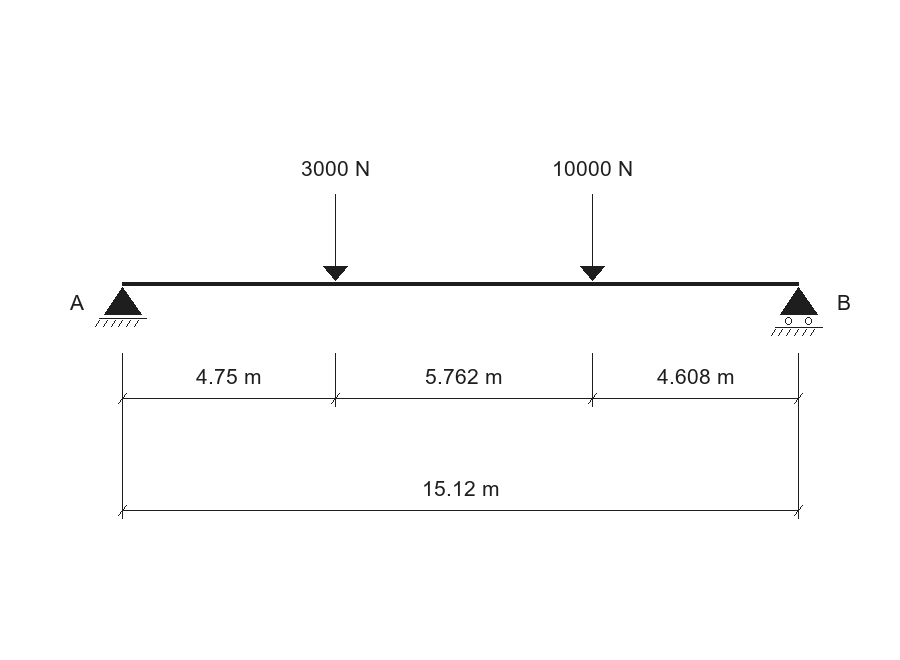pin_support: (95, 287, 147, 327)
point_load: (323, 194, 348, 281), (580, 194, 605, 281)
roller_support: (771, 287, 823, 336)
